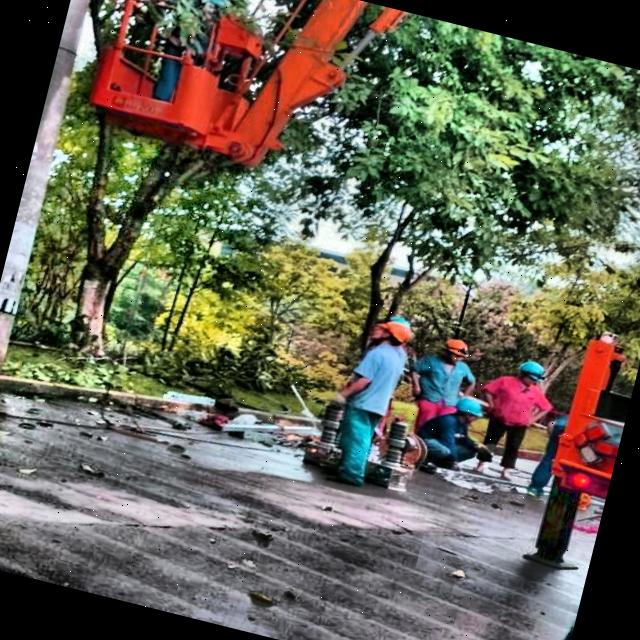helmet: (361, 312, 419, 356), (503, 352, 552, 396), (428, 332, 475, 372), (446, 392, 488, 432)
